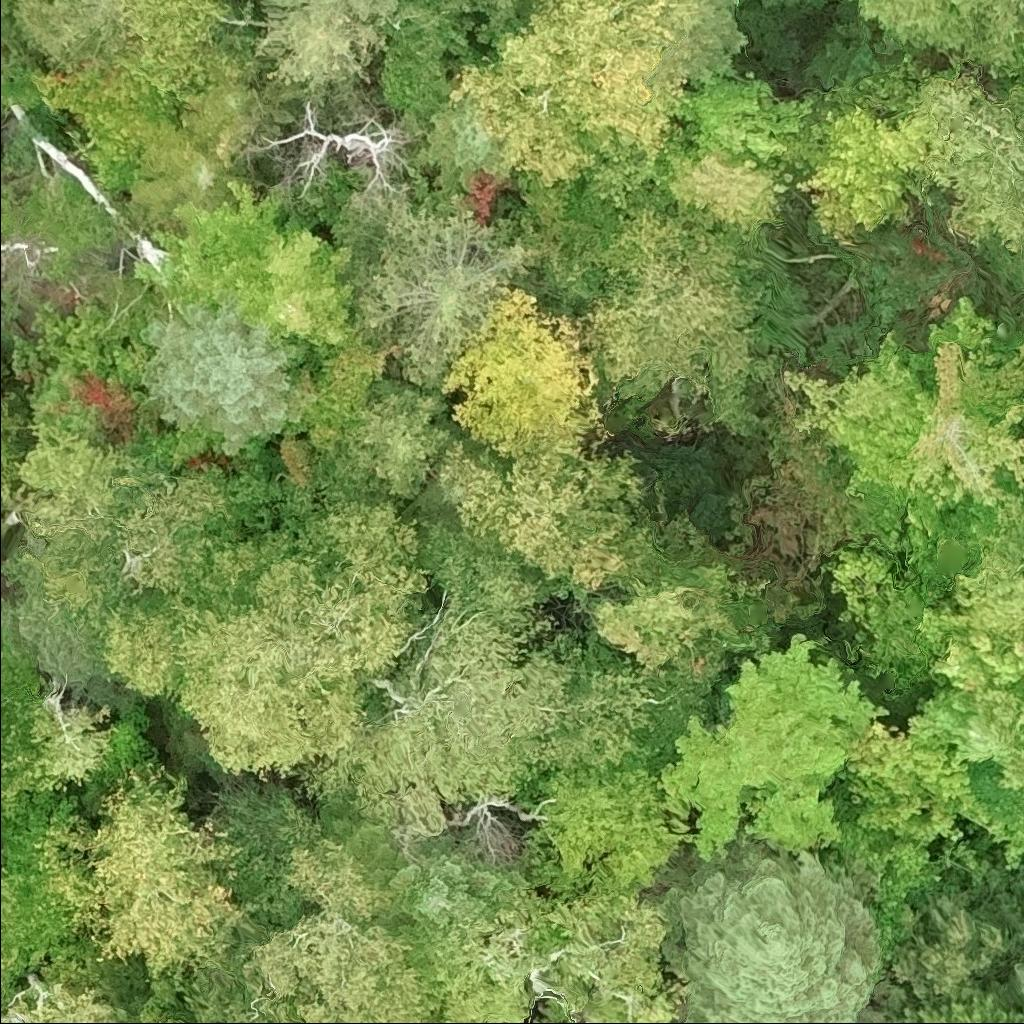crown: (106, 498, 428, 778), (304, 559, 579, 831), (658, 632, 889, 861), (787, 298, 1023, 522), (651, 835, 914, 1023), (451, 0, 697, 186), (40, 763, 244, 981), (136, 185, 359, 360), (19, 422, 234, 598), (240, 839, 443, 1023), (588, 204, 766, 399), (360, 192, 527, 392), (446, 438, 658, 592), (37, 36, 200, 195), (444, 288, 597, 456), (576, 129, 808, 234), (588, 548, 773, 675), (141, 304, 292, 459), (785, 101, 938, 250), (540, 765, 695, 899), (529, 890, 682, 1023), (430, 886, 566, 1023), (920, 78, 1023, 252), (838, 722, 987, 842), (893, 880, 1012, 1004), (287, 329, 396, 459), (663, 77, 819, 156), (131, 111, 237, 225), (854, 0, 1023, 71), (351, 385, 452, 499), (908, 598, 1023, 697), (831, 540, 930, 655), (949, 492, 1023, 632), (546, 669, 640, 762), (11, 0, 131, 69), (0, 976, 132, 1023), (895, 975, 1019, 1023), (128, 0, 223, 48), (259, 0, 397, 26), (0, 721, 31, 823), (0, 874, 21, 1012), (0, 400, 20, 500), (1012, 952, 1023, 1023), (538, 1008, 571, 1023), (492, 0, 524, 10), (1014, 699, 1023, 728)
